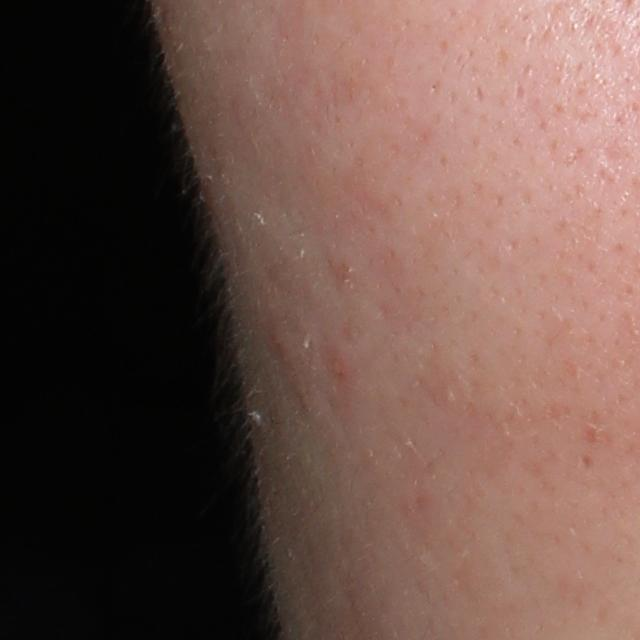papule: (329, 352, 349, 381)
